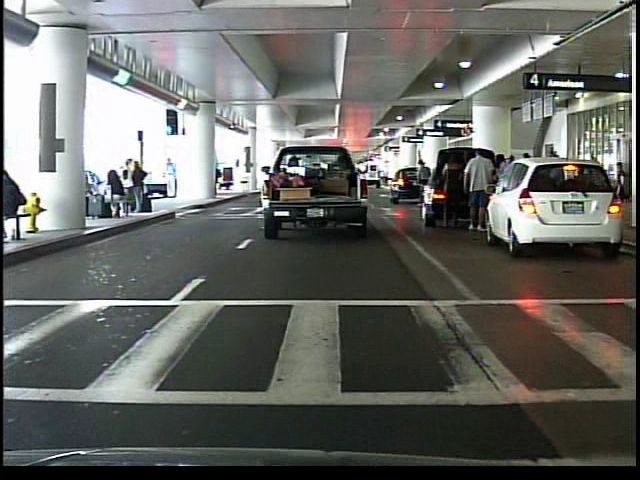person: (462, 145, 495, 237), (434, 143, 466, 231), (412, 155, 433, 208), (163, 156, 181, 199), (614, 158, 628, 185)
